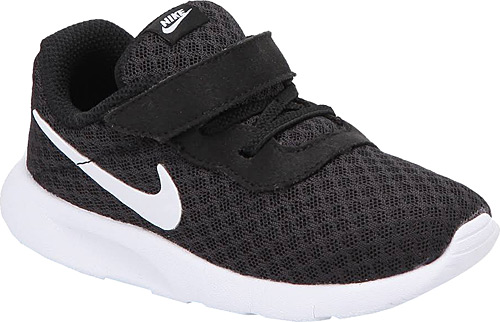nike: (43, 120, 186, 233)
